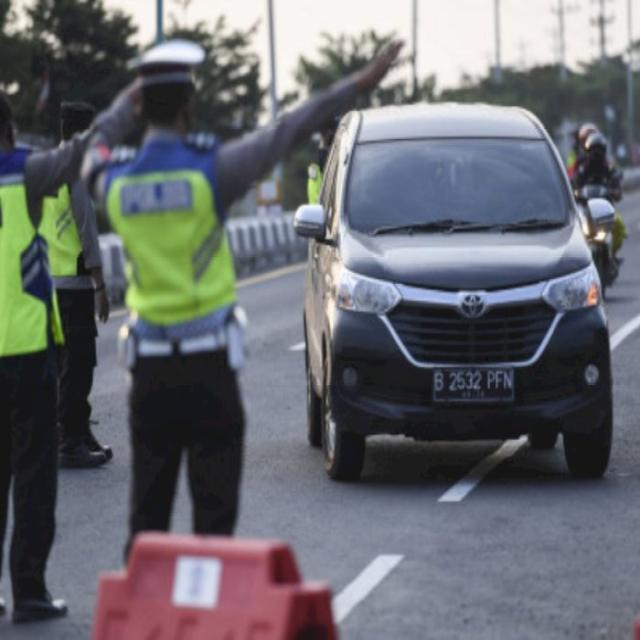plate: (433, 367, 515, 402)
